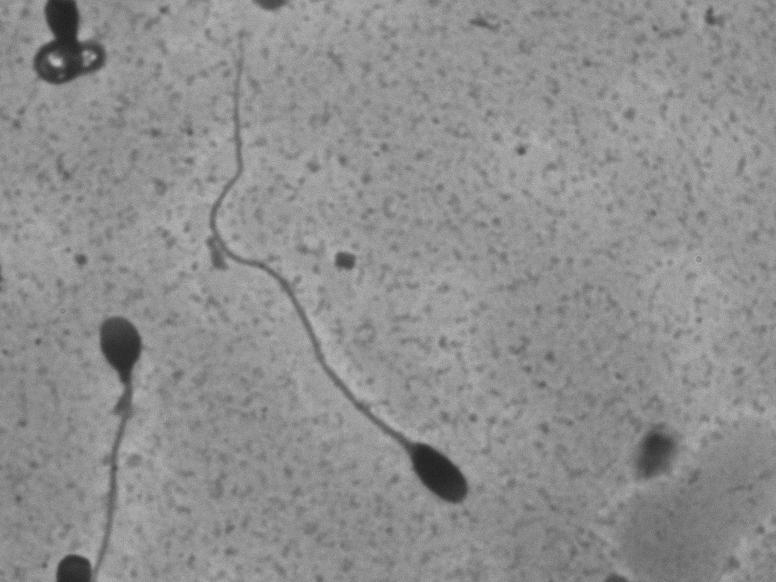Abnormal: (198, 21, 487, 530), (40, 298, 157, 559)
